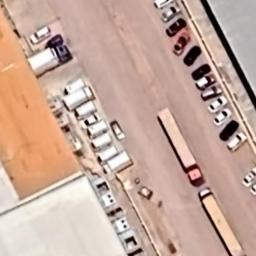SUV: (224, 131, 248, 153), (107, 119, 127, 145), (27, 26, 52, 44), (241, 164, 256, 186), (151, 0, 176, 9), (250, 182, 256, 198)
sedan: (171, 30, 192, 58), (164, 17, 188, 39), (218, 118, 240, 142), (158, 6, 184, 24), (182, 44, 203, 66), (194, 74, 220, 90), (80, 112, 102, 130), (191, 63, 213, 81), (207, 96, 229, 112), (214, 108, 232, 126)
truck: (152, 108, 206, 188), (194, 186, 250, 256), (24, 45, 76, 80), (100, 151, 136, 177), (62, 84, 95, 111), (92, 144, 120, 165), (71, 100, 98, 119), (85, 120, 111, 139), (86, 134, 112, 152), (61, 77, 85, 95)
van: (196, 84, 226, 100), (44, 34, 66, 50)
